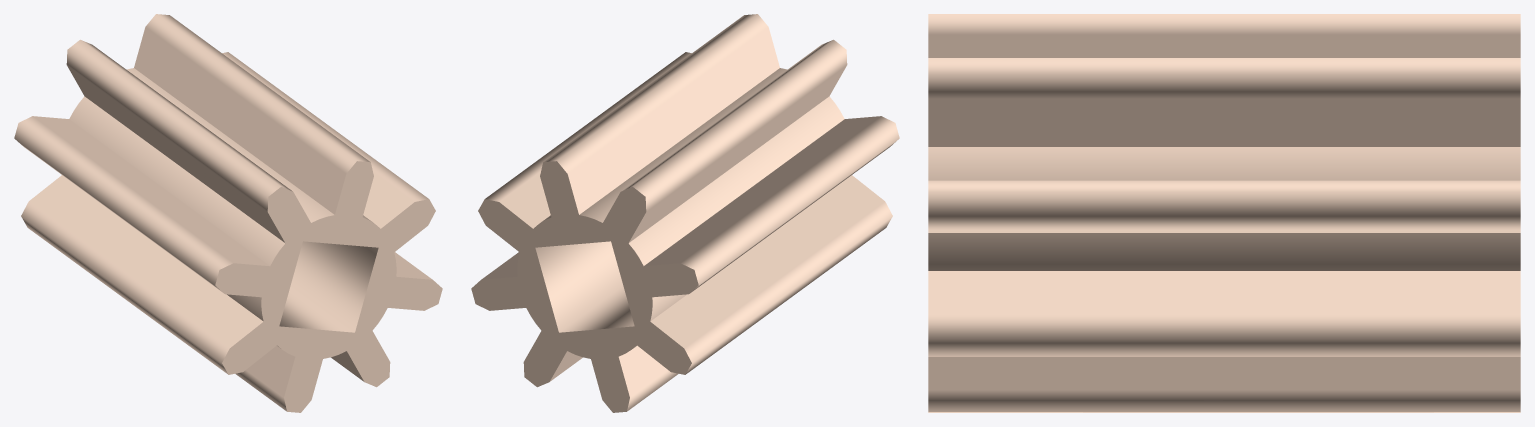
Rendered from Pignon_Echappement.obj.
3 renders of one model, left to right at view 1: azimuth 30°, elevation 25°; view 2: azimuth 150°, elevation 25°; view 3: azimuth 270°, elevation 25°, orthographic. The views are drawn at different scales.
Visible parts, largest first — view 1: Face_1, Face_29, Face_23, Face_20, Face_24, Face_26, Face_35, Face_16, Face_28, Face_25, Face_27, Face_22 (+6 smaller); view 2: Face_2, Face_29, Face_23, Face_20, Face_24, Face_26, Face_35, Face_16, Face_28, Face_25, Face_27, Face_22 (+6 smaller); view 3: Face_12, Face_17, Face_15, Face_8, Face_16, Face_14, Face_18, Face_11, Face_21, Face_3, Face_20, Face_13.
Boxes of the visible parts, box(x1,y1,x2,y2) form: Face_1: box(215, 161, 442, 412); Face_29: box(29, 175, 263, 348); Face_23: box(134, 27, 346, 214); Face_20: box(66, 39, 292, 211); Face_24: box(14, 116, 233, 292); Face_26: box(69, 96, 284, 265); Face_35: box(279, 241, 378, 332); Face_16: box(145, 14, 370, 173); Face_28: box(21, 201, 229, 374); Face_25: box(33, 116, 269, 266); Face_27: box(67, 65, 284, 242); Face_22: box(126, 68, 334, 222); Face_2: box(471, 161, 698, 412); Face_29: box(650, 175, 884, 348); Face_23: box(567, 27, 779, 214); Face_20: box(621, 39, 847, 211); Face_24: box(680, 116, 899, 292); Face_26: box(629, 96, 844, 265); Face_35: box(535, 241, 634, 332); Face_16: box(543, 14, 768, 173); Face_28: box(684, 201, 892, 374); Face_25: box(644, 116, 880, 266); Face_27: box(629, 65, 846, 242); Face_22: box(579, 68, 787, 222); Face_12: box(928, 180, 1520, 229); Face_17: box(928, 98, 1520, 146); Face_15: box(928, 271, 1520, 314); Face_8: box(928, 315, 1520, 356); Face_16: box(928, 58, 1520, 98); Face_14: box(928, 233, 1520, 270); Face_18: box(928, 147, 1520, 180); Face_11: box(928, 357, 1520, 389); Face_21: box(928, 34, 1520, 57); Face_3: box(928, 390, 1520, 412); Face_20: box(928, 14, 1520, 34); Face_13: box(928, 230, 1520, 232).
Bounding box in the file's own units: 0.00589 × 0.00589 × 0.009.
